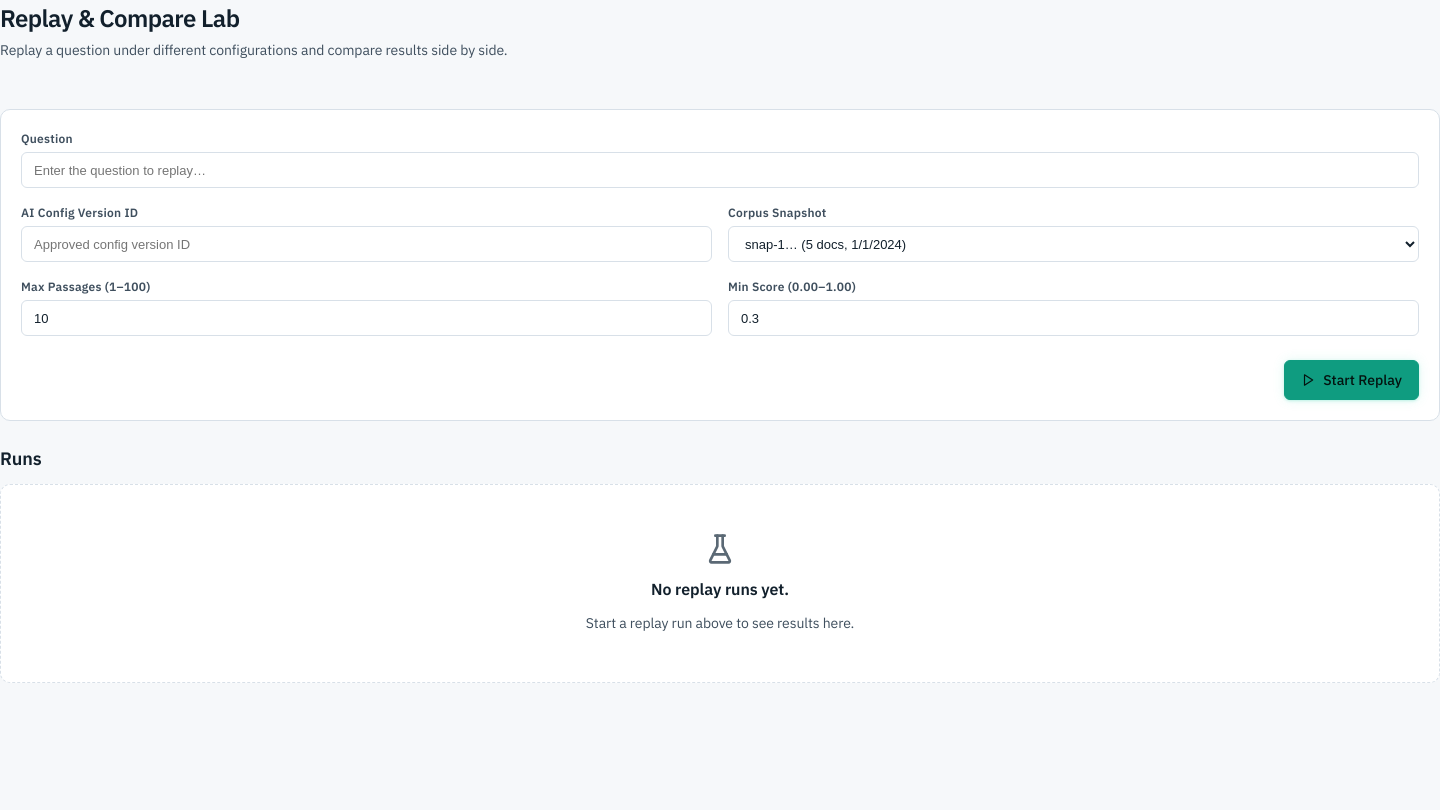
Scenario: ReplayLabPage › displays the comparison view when two completed runs are selected
# Create first run
Type "First question" into the field labelled "Question".
click(720, 170); type("First question")  # box [21,152,1419,188]
Type "cfg1" into the field labelled "AI Config Version ID".
click(366, 244); type("cfg1")  # box [21,226,712,262]
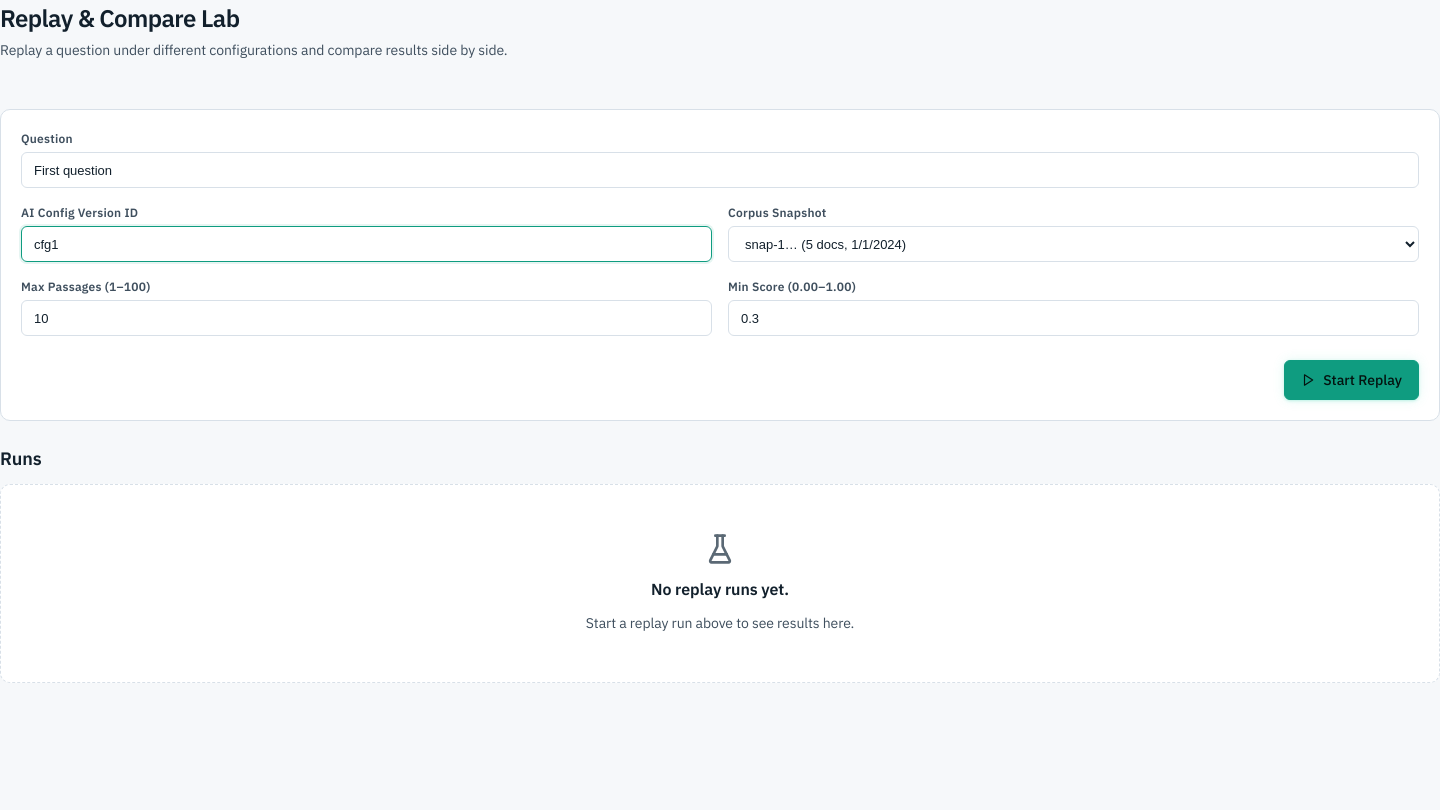
Click the button "Start Replay".
click(1352, 380)  # box [1284,360,1419,400]
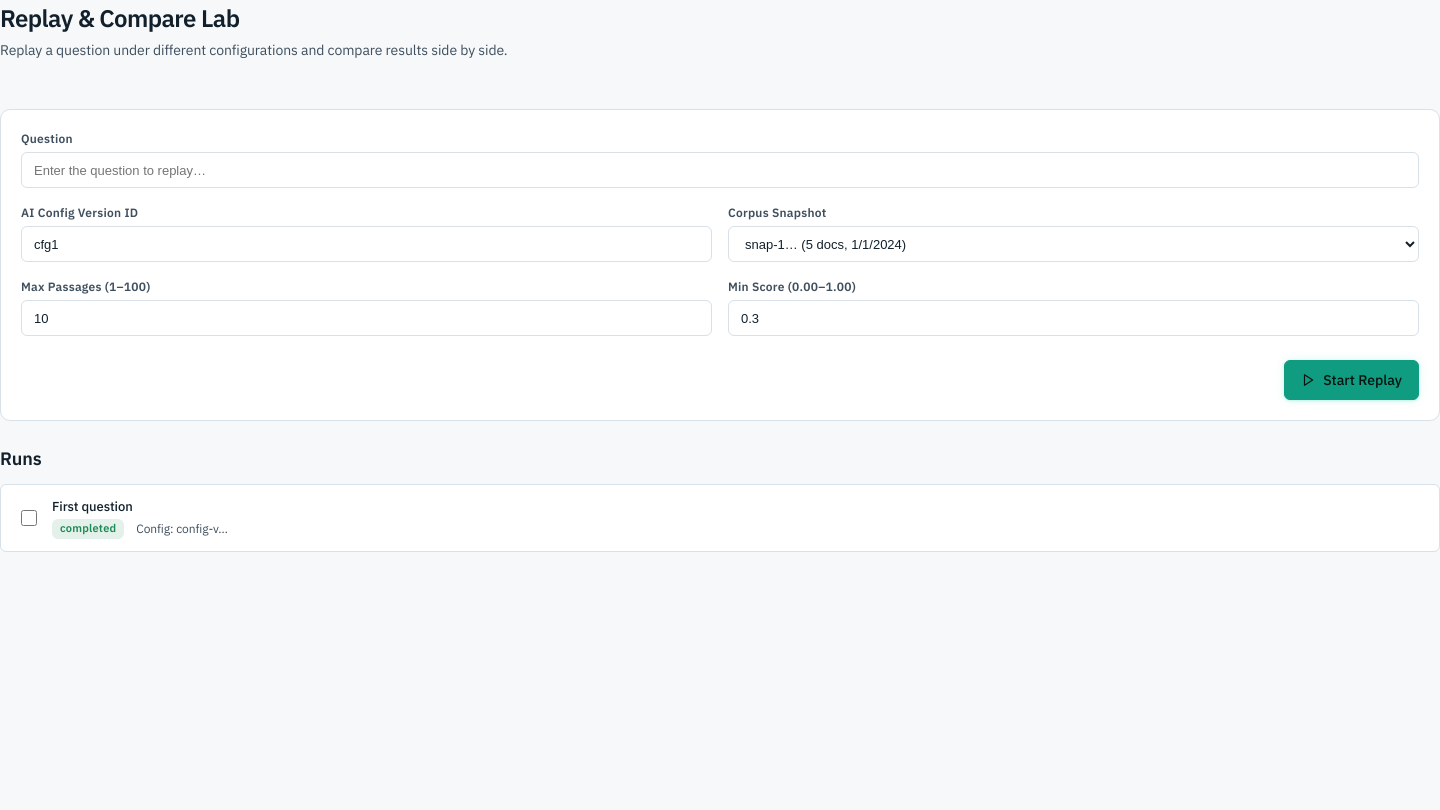
Result: the text "First question" is shown at [52,498,133,515]
# Create second run
Type "Second question" into the field labelled "Question".
click(720, 170); type("Second question")  # box [21,152,1419,188]
Replace the text in the field labelled "AI Config Version ID" with "cfg2" at (366,244), box [21,226,712,262]
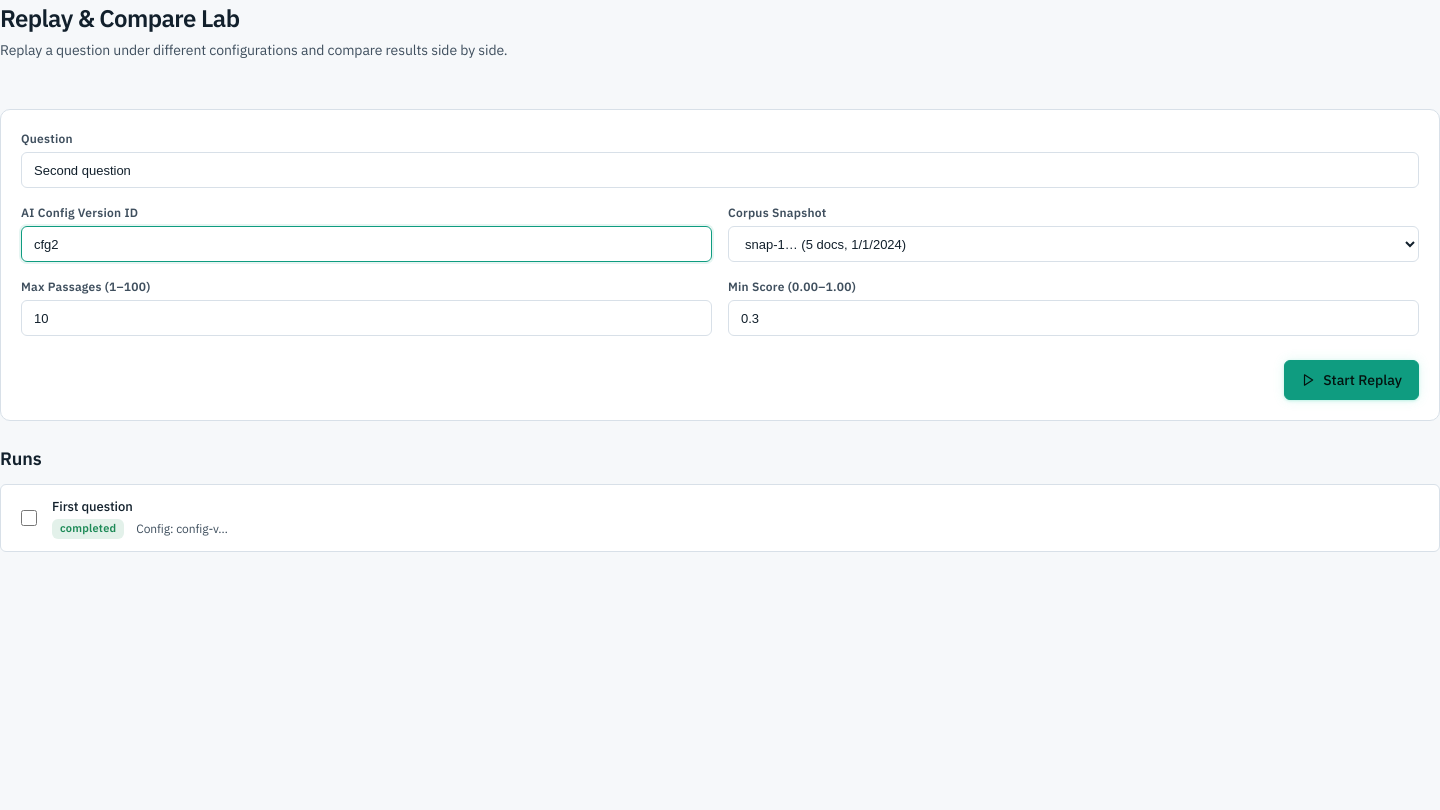
Click the button "Start Replay".
click(1352, 380)  # box [1284,360,1419,400]
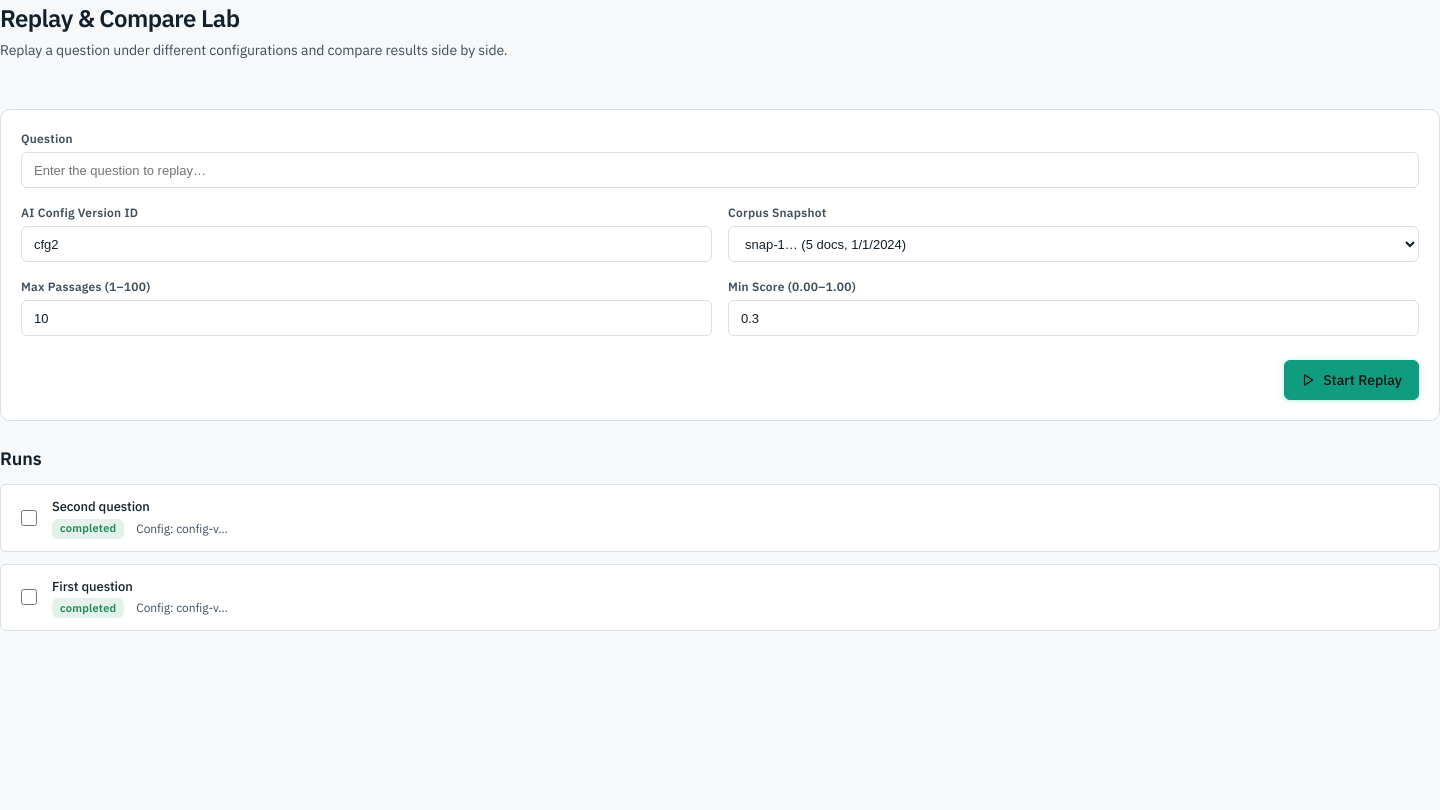
Result: the text "Second question" is shown at [52,498,150,515]
# Select both for comparison
Click the checkbox named "Select run for comparison: Second question".
click(29, 518)  # box [21,510,37,526]
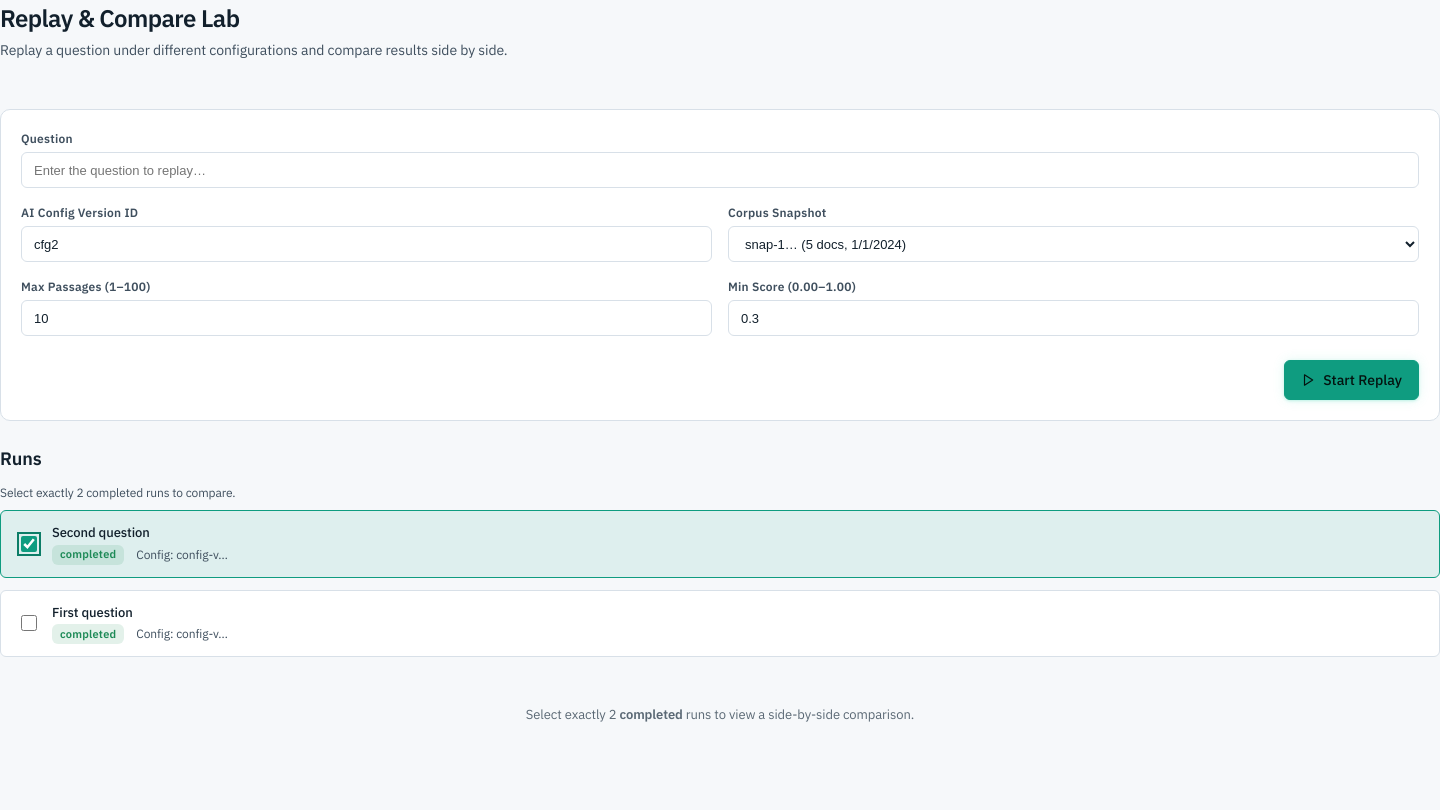
Click the checkbox named "Select run for comparison: First question".
click(29, 623)  # box [21,615,37,631]
(page scrolled)
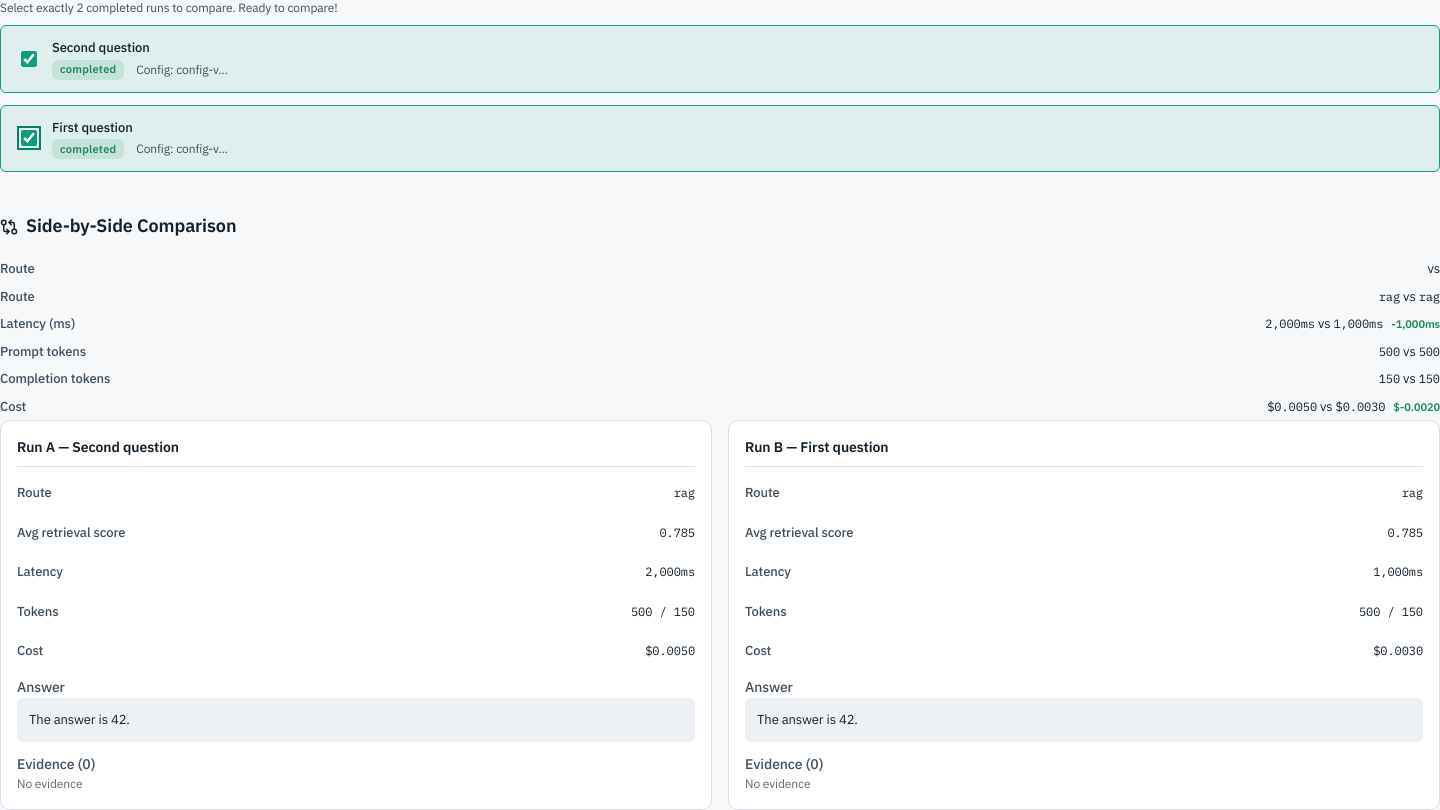
Result: the heading "Side-by-Side Comparison" is shown at [0,212,236,239]
Result: the text "$0.0030" next to "$-0.0020" is shown at [1336,398,1385,414]
Result: the text "$0.0050" in the row of "$-0.0020" is shown at [1267,398,1317,414]
